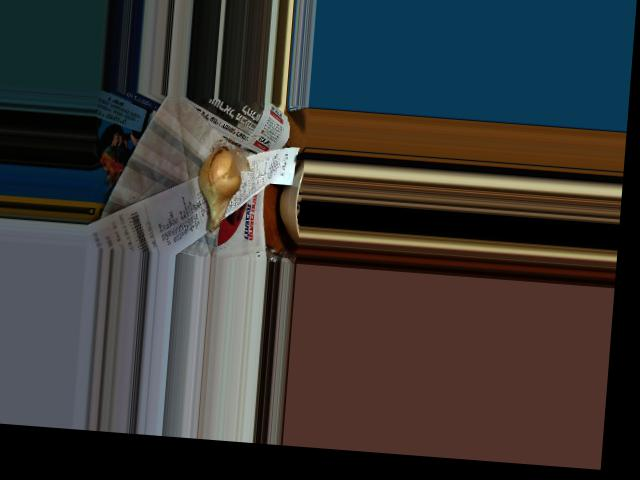onion: (198, 144, 241, 223)
